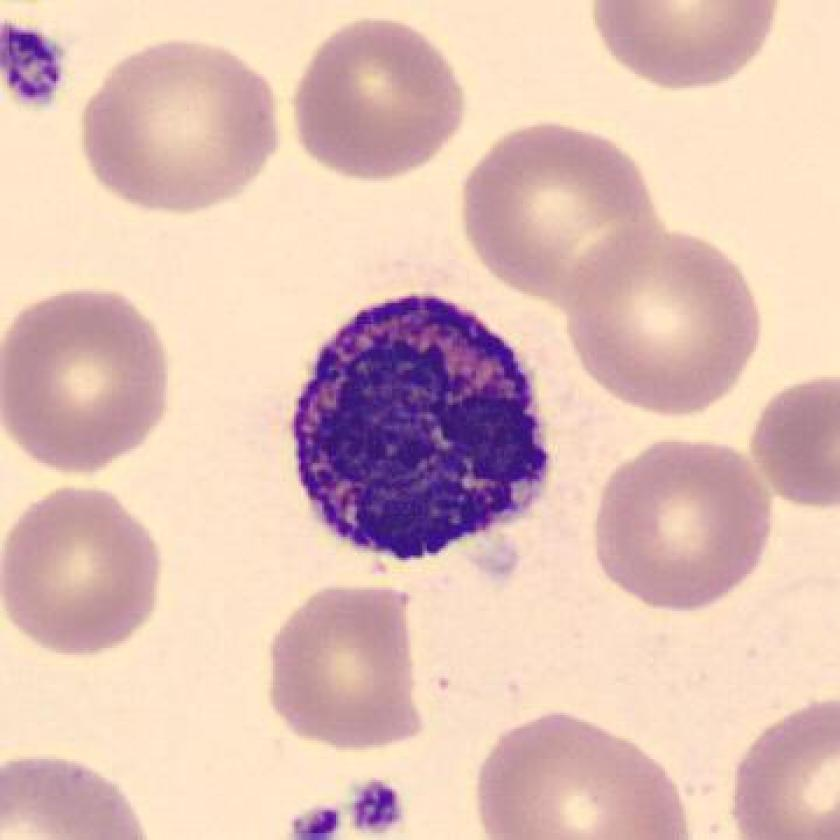basophil: (291, 286, 564, 575)
